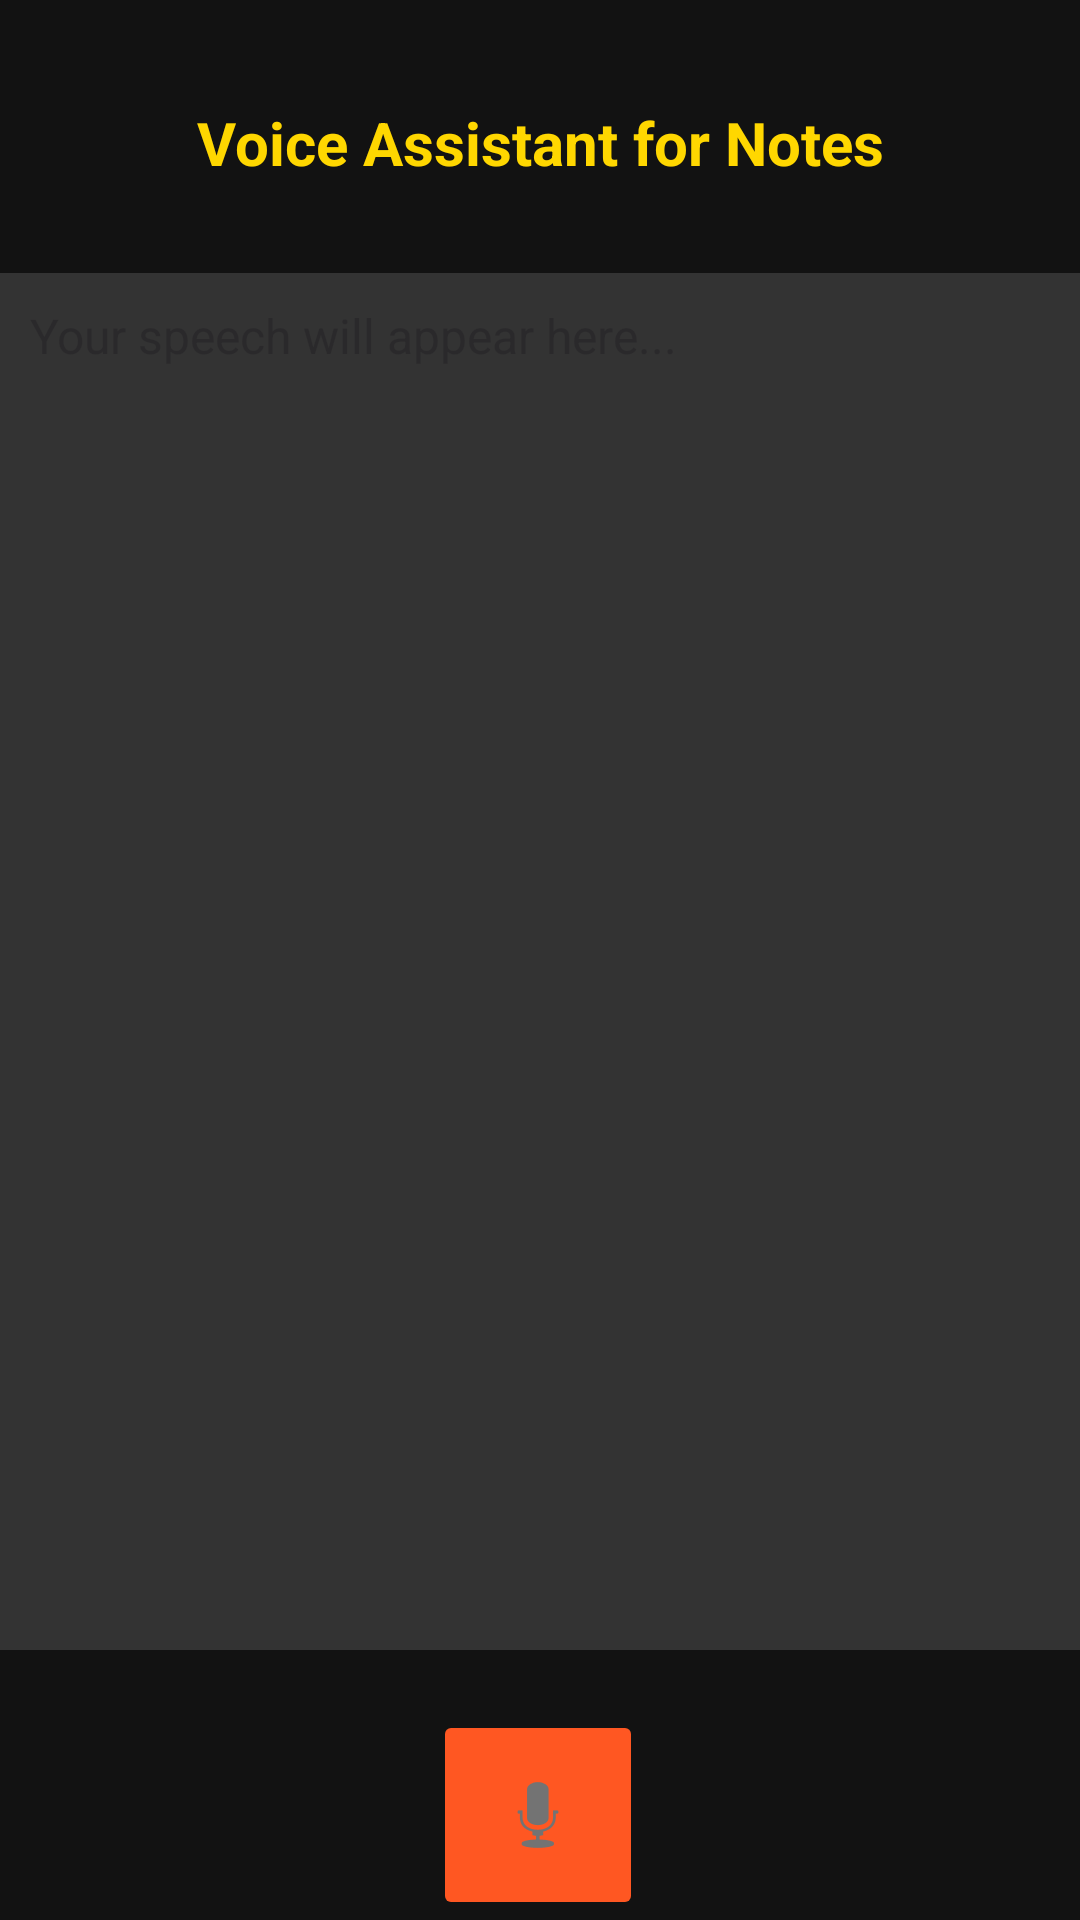

Where icons sit on this 1080w x 1920h app screen, as bbox(x1, y1, x2, y2):
speak now: bbox(445, 1728, 631, 1902)
